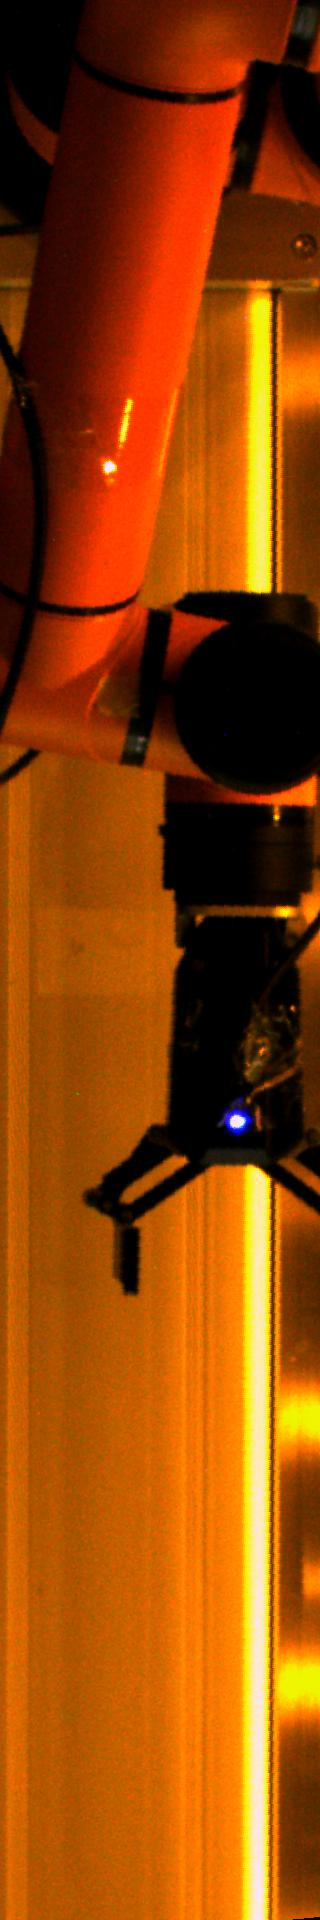keyPoint_1: (222, 1104, 253, 1134)
